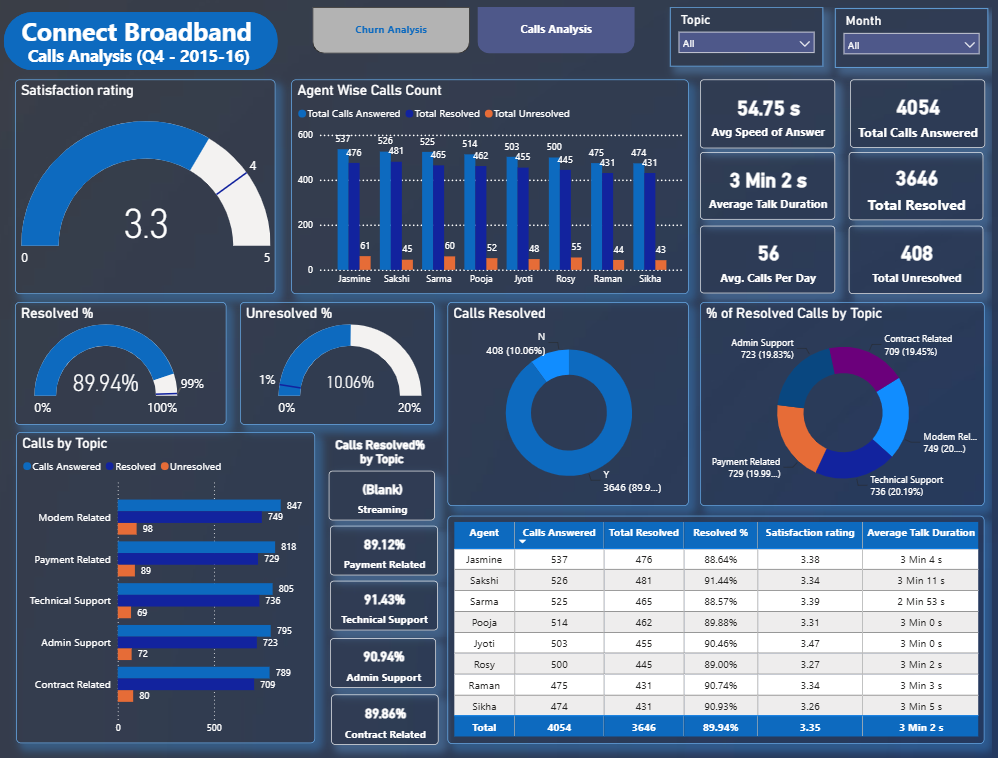

What the dashboard file says about the page in this screenshot:
{"tool":"powerbi","page":{"name":"Calls Analysis","canvas":[1280,970],"ordinal":1},"visuals":[{"type":"clusteredBarChart","title":"Calls by Topic","fields":{"Category":["dim_call.Topic"],"Y":["Key Measures.Total Calls Answered","Key Measures.Total Resolved","Key Measures.Total Unresolved"]},"box":[21.4,548.6,385.7,401.4],"z":2000},{"type":"clusteredColumnChart","title":"Agent Wise Calls Count","fields":{"Category":["Calls.Agent"],"Y":["Measures_Calls.Total Calls Answered","Measures_Calls.Total Resolved","Measures_Calls.Total Unresolved"]},"box":[375.7,92.9,512.9,277.1],"z":3000},{"type":"slicer","fields":{"Values":["Calls.Topic"]},"box":[863.8,0,197.2,76.6],"z":4000},{"type":"slicer","fields":{"Values":["Calls.Month"]},"box":[1077.4,1.6,197.2,76.6],"z":5000},{"type":"card","fields":{"Values":["Key Measures.Total Calls Answered"]},"box":[1096,93,174,88],"z":6000},{"type":"card","fields":{"Values":["Key Measures.Total Unresolved"]},"box":[1095.9,282.2,174,87.7],"z":7000},{"type":"card","fields":{"Values":["Key Measures.Total Resolved"]},"box":[1095.9,187.7,174,87.7],"z":8000},{"type":"card","fields":{"Values":["Key Measures.Resolved%"]},"box":[426,670,139,64],"z":9000},{"type":"card","fields":{"Values":["Key Measures.Resolved%Text"]},"box":[425,545.4,137.1,58.6],"z":10000},{"type":"card","fields":{"Values":["Key Measures.Resolved%"]},"box":[426,741,139,64],"z":11000},{"type":"card","fields":{"Values":["Key Measures.Resolved%"]},"box":[425,814,137,64],"z":12000},{"type":"donutChart","title":"% of Resolved Calls by Topic","fields":{"Y":["Key Measures.Total Resolved"],"Category":["dim_call.Topic"]},"box":[902.9,381.4,367.1,262.9],"z":13000},{"type":"gauge","fields":{"Y":["Key Measures.Satisfaction rating"]},"box":[20,92.9,335.7,277.1],"z":14000},{"type":"card","fields":{"Values":["Key Measures.Resolved%"]},"box":[428,887,138,65],"z":15000},{"type":"card","fields":{"Values":["Key Measures.Resolved%"]},"box":[425,598.3,137.1,64],"z":16000},{"type":"gauge","fields":{"Y":["Key Measures.Resolved%"]},"box":[20,381.4,272.9,158.6],"z":17000},{"type":"gauge","fields":{"Y":["Key Measures.Un_Resolved%"]},"box":[310,381.4,251.4,158.6],"z":18000},{"type":"donutChart","title":"Calls Resolved","fields":{"Y":["Key Measures.Total Calls Answered"],"Category":["dim_call.Resolved"]},"box":[577.1,381.4,311.4,262.9],"z":19000},{"type":"card","fields":{"Values":["Key Measures.Avg Speed of Answer"]},"box":[902.9,92.9,174.3,88.6],"z":20000},{"type":"card","fields":{"Values":["Key Measures.Average Talk Duration"]},"box":[902.9,187.1,174.3,87.1],"z":21000},{"type":"card","fields":{"Values":["Key Measures.Calls per day on average"]},"box":[902.9,282.9,174.3,87.1],"z":22000},{"type":"tableEx","title":"Agent Wise Calls Count","fields":{"Values":["Calls.Agent","Key Measures.Total Calls Answered","Key Measures.Total Resolved","Key Measures.Resolved%","Key Measures.Satisfaction rating","Key Measures.Average Talk Duration"]},"box":[577.1,657.1,692.9,294.3],"z":23000},{"type":"pageNavigator","box":[404,0,416,60],"z":24000},{"type":"shape","box":[4.9,6.5,353.7,75],"z":24001},{"type":"textbox","box":[23.1,4.9,347.6,59.3],"z":24002},{"type":"textbox","box":[31.3,42.8,341,59.3],"z":24003}]}

Visuals, with their boxes in screenshot pixels (x1, y1, x2, y2), scaled from the page's 1280x970 canvas onto the 998x758 screenshot:
"Calls by Topic" clusteredBarChart: (x1=17, y1=429, x2=317, y2=742)
"Agent Wise Calls Count" clusteredColumnChart: (x1=293, y1=73, x2=693, y2=289)
slicer - Calls.Topic: (x1=673, y1=0, x2=827, y2=60)
slicer - Calls.Month: (x1=840, y1=1, x2=994, y2=61)
card - Key Measures.Total Calls Answered: (x1=855, y1=73, x2=990, y2=141)
card - Key Measures.Total Unresolved: (x1=854, y1=221, x2=990, y2=289)
card - Key Measures.Total Resolved: (x1=854, y1=147, x2=990, y2=215)
card - Key Measures.Resolved%: (x1=332, y1=524, x2=441, y2=574)
card - Key Measures.Resolved%Text: (x1=331, y1=426, x2=438, y2=472)
card - Key Measures.Resolved%: (x1=332, y1=579, x2=441, y2=629)
card - Key Measures.Resolved%: (x1=331, y1=636, x2=438, y2=686)
"% of Resolved Calls by Topic" donutChart: (x1=704, y1=298, x2=990, y2=503)
gauge - Key Measures.Satisfaction rating: (x1=16, y1=73, x2=277, y2=289)
card - Key Measures.Resolved%: (x1=334, y1=693, x2=441, y2=744)
card - Key Measures.Resolved%: (x1=331, y1=468, x2=438, y2=518)
gauge - Key Measures.Resolved%: (x1=16, y1=298, x2=228, y2=422)
gauge - Key Measures.Un_Resolved%: (x1=242, y1=298, x2=438, y2=422)
"Calls Resolved" donutChart: (x1=450, y1=298, x2=693, y2=503)
card - Key Measures.Avg Speed of Answer: (x1=704, y1=73, x2=840, y2=142)
card - Key Measures.Average Talk Duration: (x1=704, y1=146, x2=840, y2=214)
card - Key Measures.Calls per day on average: (x1=704, y1=221, x2=840, y2=289)
"Agent Wise Calls Count" tableEx: (x1=450, y1=513, x2=990, y2=743)
pageNavigator: (x1=315, y1=0, x2=639, y2=47)
shape: (x1=4, y1=5, x2=280, y2=64)
textbox: (x1=18, y1=4, x2=289, y2=50)
textbox: (x1=24, y1=33, x2=290, y2=80)
